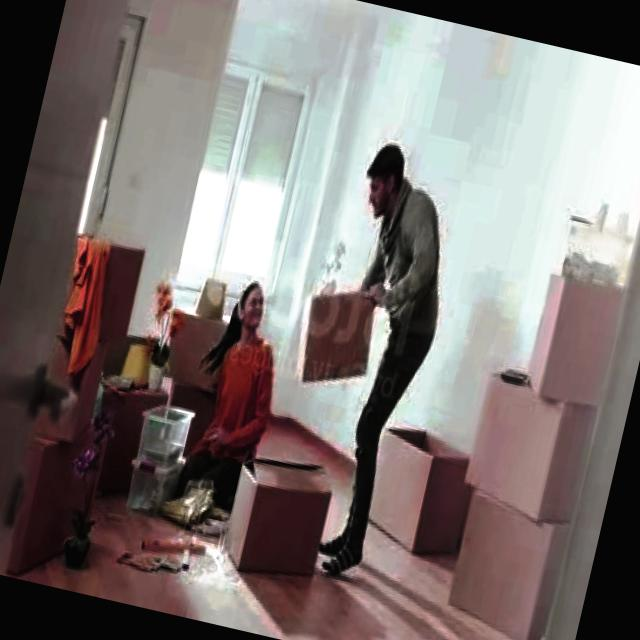Box: (450, 378, 592, 516), (215, 450, 342, 591), (437, 502, 566, 640), (358, 415, 468, 552), (520, 272, 622, 410), (286, 281, 376, 391)
